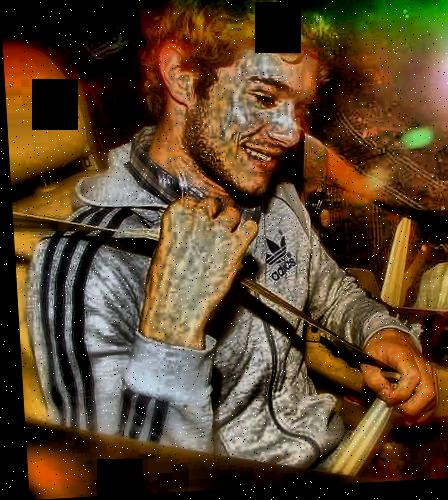seatbelt: (60, 198, 425, 464)
